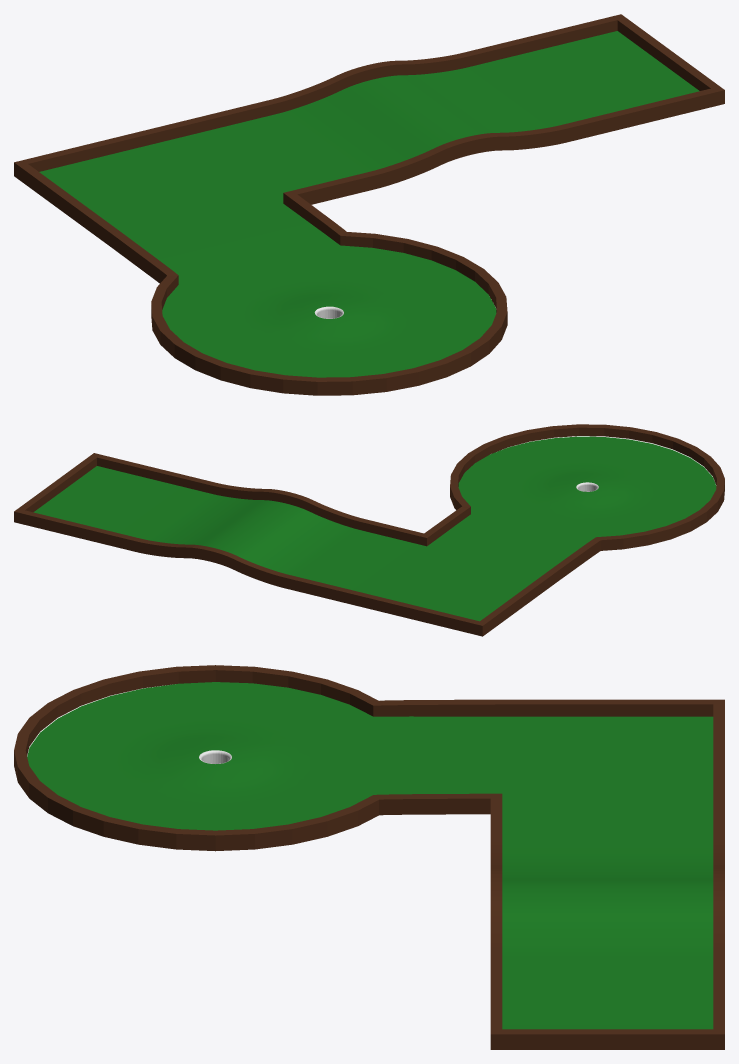
The model's file is course2.fbx.
The picture shows the model from 3 angles, top to bottom: view 1: azimuth 30°, elevation 25°; view 2: azimuth 150°, elevation 25°; view 3: azimuth 270°, elevation 25°; orthographic projection. The views are drawn at different scales.
Visible parts, largest first — view 1: Grass, Border; view 2: Grass, Border; view 3: Grass, Border.
Boxes of the visible parts, <box> form: Grass: <box>39,31,699,377</box>; Border: <box>14,14,724,395</box>; Grass: <box>33,436,716,621</box>; Border: <box>14,424,724,636</box>; Grass: <box>27,682,713,1029</box>; Border: <box>14,665,724,1049</box>.
Size of what is drawn, in the model's own units: 2638 by 115 by 2140.
